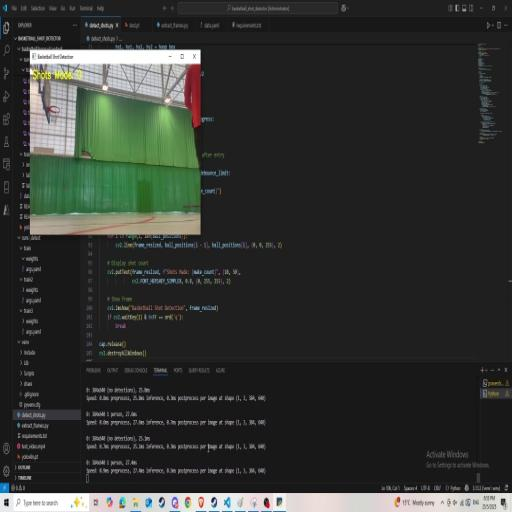hoops: (48, 105, 62, 127)
